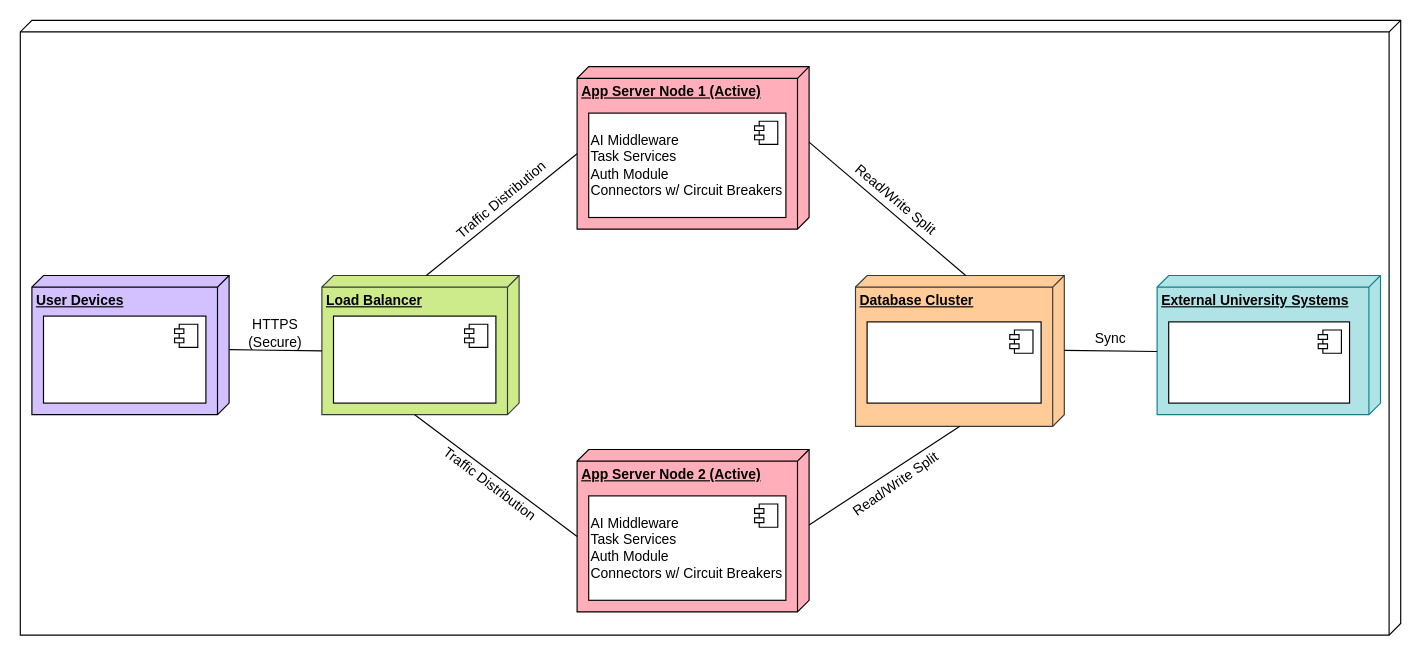
Some shapes in this 1421 by 655 pixel diagram are drawn without their labels. Here are the shapes that lost their labels. From the top down, the centre of each, then its label:
the point at 124,359: Web Browser Mobile OS Voice Assistant
the point at 414,359: Refined API Gateway
the point at 953,362: Primary DB (writes) Replica DB (Reads)
the point at 1259,362: LMS System Email System Calendar System Identity Provider (SSO)
